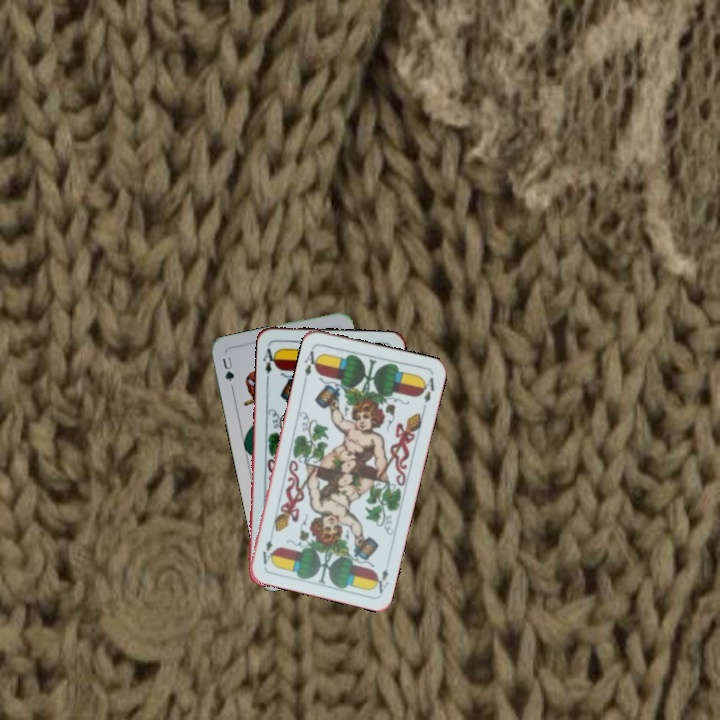EA: (300, 343, 323, 384), (259, 341, 279, 376), (370, 565, 391, 596)
GU: (218, 352, 237, 385)
